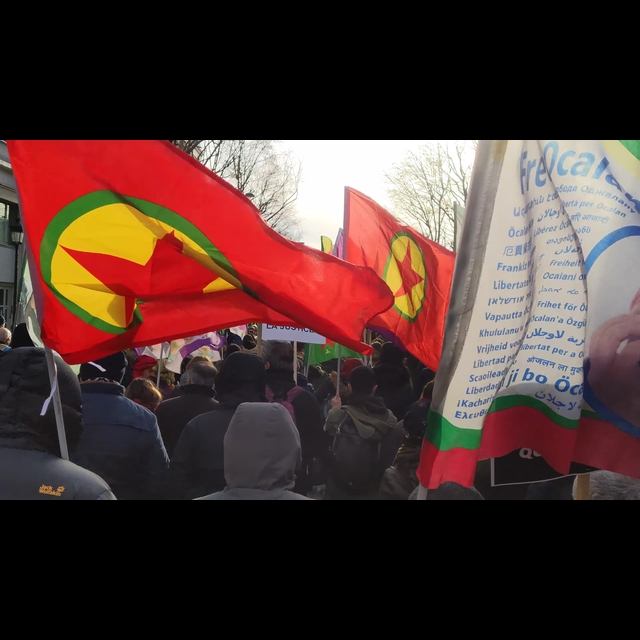PKK: (20, 162, 297, 359), (368, 214, 436, 333)
